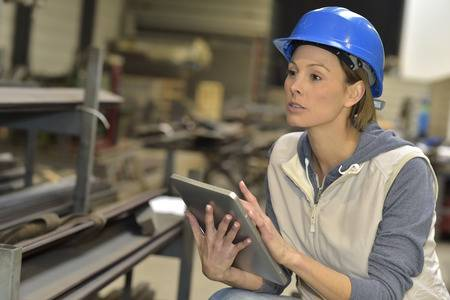casco: (272, 5, 385, 98)
